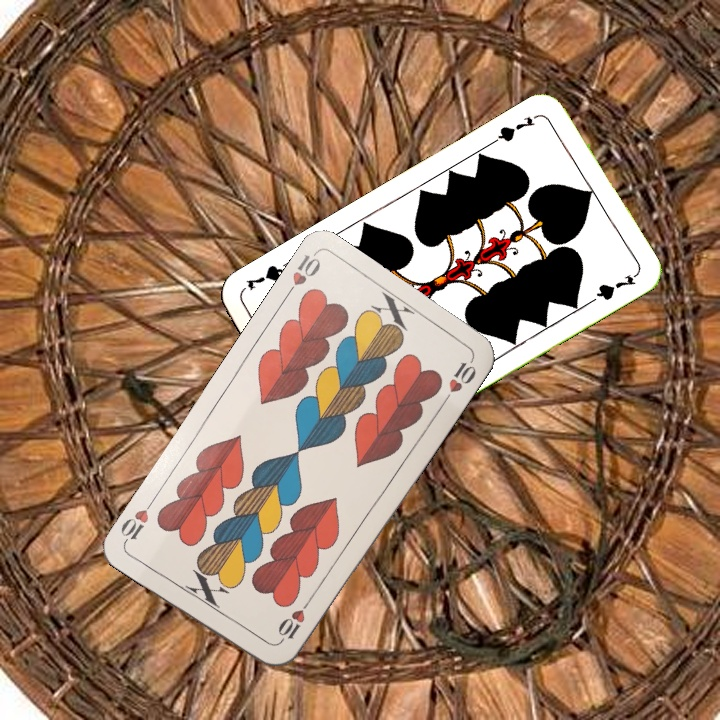G7: (489, 109, 543, 146)
H10: (280, 250, 324, 302), (274, 595, 314, 647)
